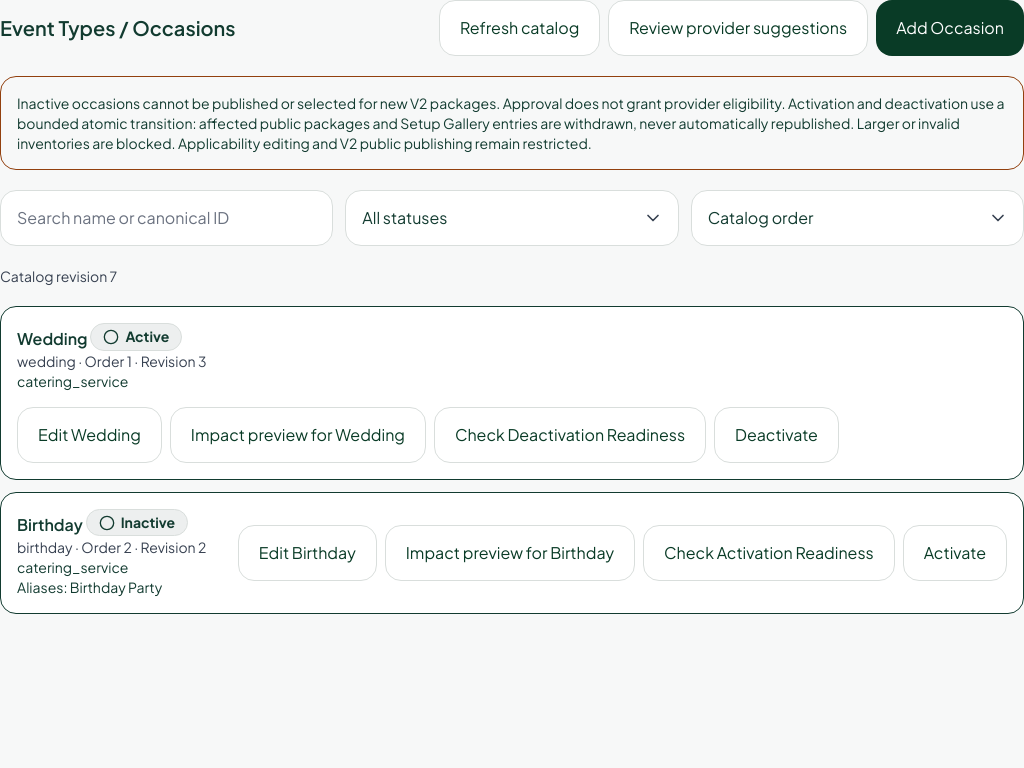
Test: Admin occasion maintenance › keeps activation disabled when the readiness API is unavailable
Expected: the button "Edit Wedding" is shown, [17,407,162,463]
Click the button with aria-label "Check Activation Readiness for Birthday".
click(769, 553)  # box [643,525,895,581]
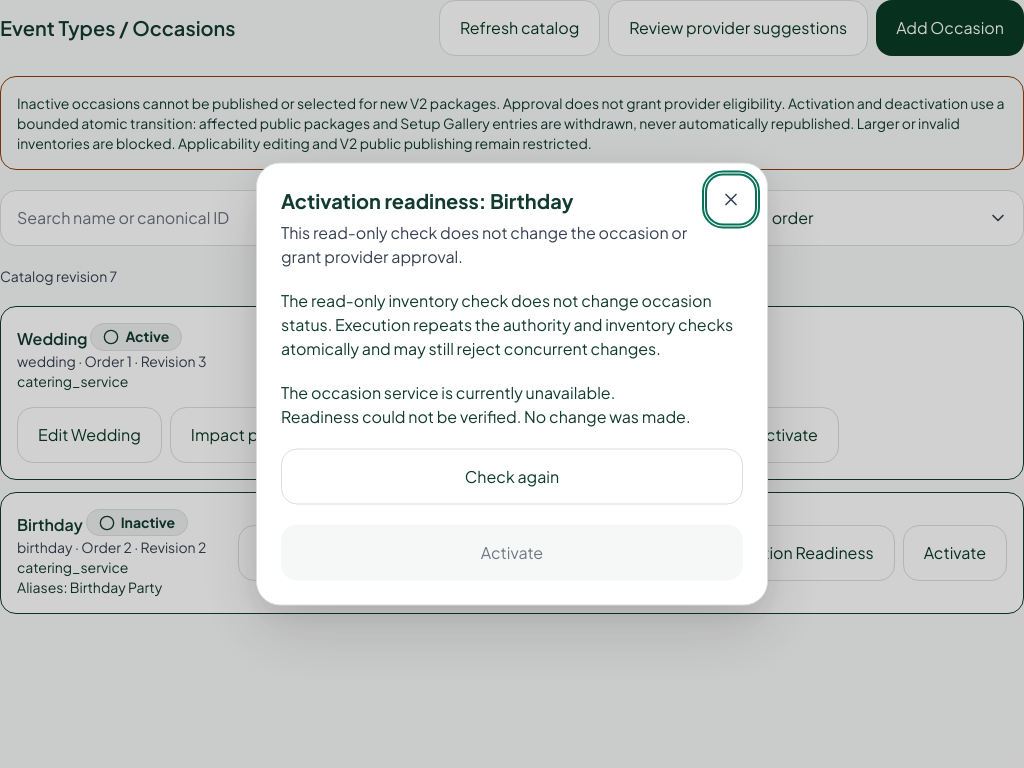
Expected: the message shows "Readiness could not be verified", [281,406,690,426]
Expected: the button "Activate" is disabled, [281,524,743,580]
